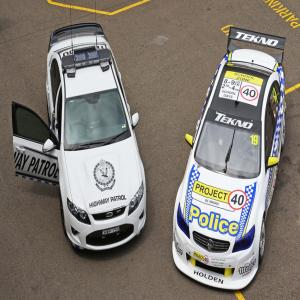Vehicle-registration-plate: (104, 228, 121, 234)
